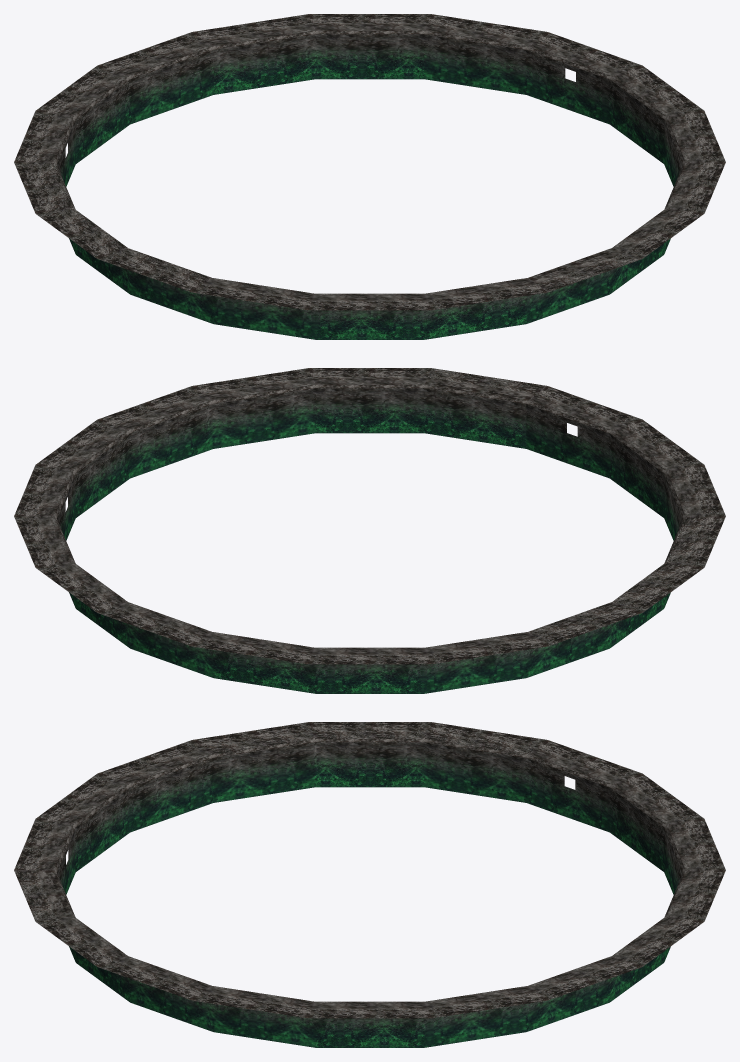
The picture shows the model from 3 angles, top to bottom: view 1: azimuth 30°, elevation 25°; view 2: azimuth 150°, elevation 25°; view 3: azimuth 270°, elevation 25°; orthographic projection.
Parts seen in each view (by area): view 1: Tube04; view 2: Tube04; view 3: Tube04.
Part boxes in pixels (x1=…): Tube04: x1=14, y1=14, x2=725, y2=339; Tube04: x1=14, y1=368, x2=725, y2=693; Tube04: x1=14, y1=722, x2=725, y2=1047.
Bounding box in the file's own units: 992 × 73.84 × 1008.
